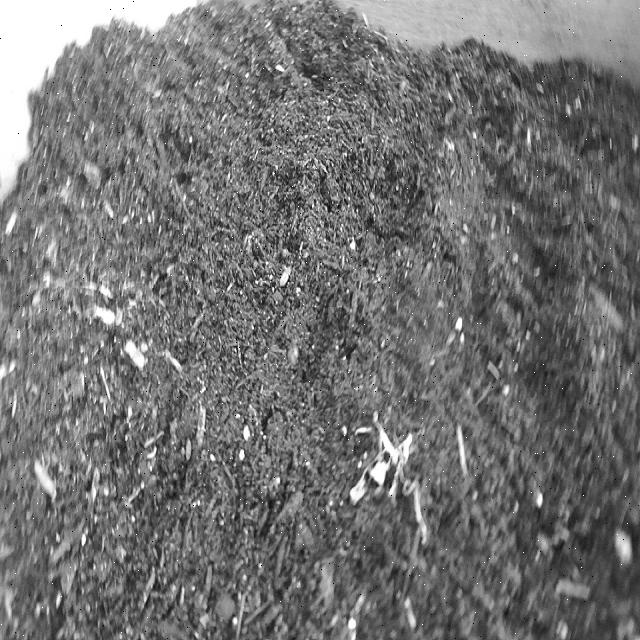Unhealthy: (341, 379, 440, 568)
